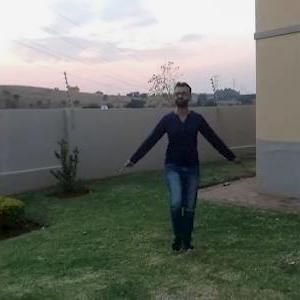land: (135, 93, 223, 218)
